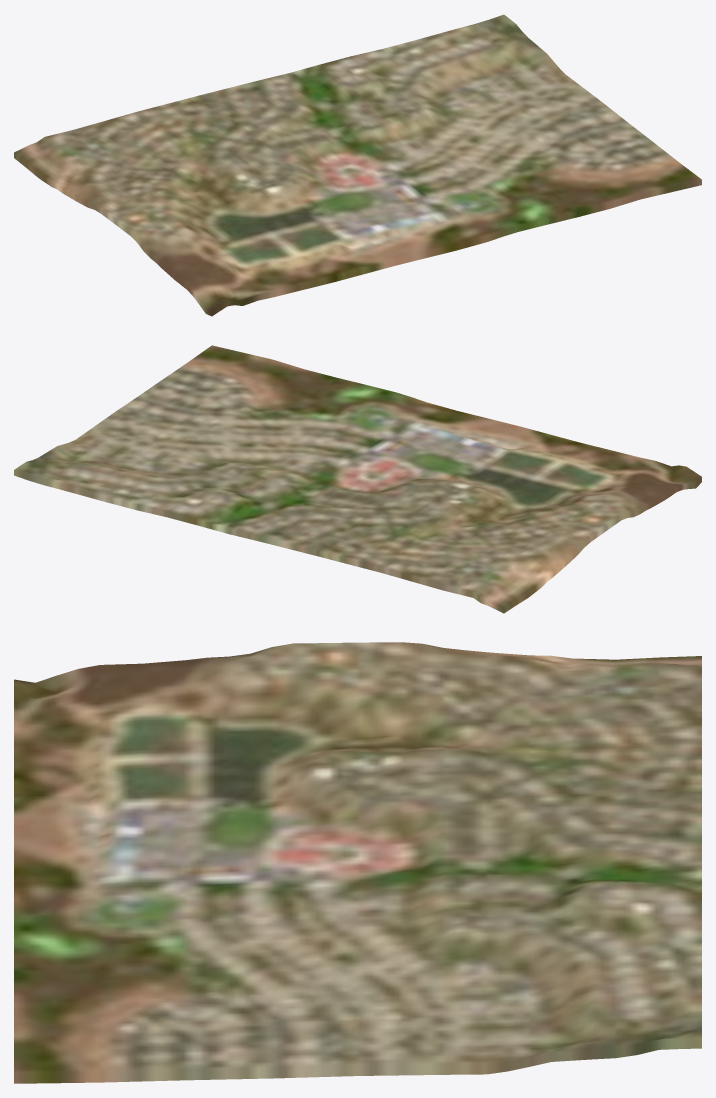
The model's file is terrain_r5_c4_lod2.glb.
The picture shows the model from 3 angles, top to bottom: view 1: azimuth 30°, elevation 25°; view 2: azimuth 150°, elevation 25°; view 3: azimuth 270°, elevation 25°; orthographic projection. The views are drawn at different scales.
Parts seen in each view (by area): view 1: terrain_r5_c4_lod2; view 2: terrain_r5_c4_lod2; view 3: terrain_r5_c4_lod2.
Boxes of the visible parts, x1,y1,x2,y2 form: terrain_r5_c4_lod2: (14, 14, 701, 316); terrain_r5_c4_lod2: (14, 345, 701, 613); terrain_r5_c4_lod2: (14, 642, 701, 1083).
Size of the model in its own units: 1125 by 86.59 by 787.
Materials: 1 (1 with a texture image).
